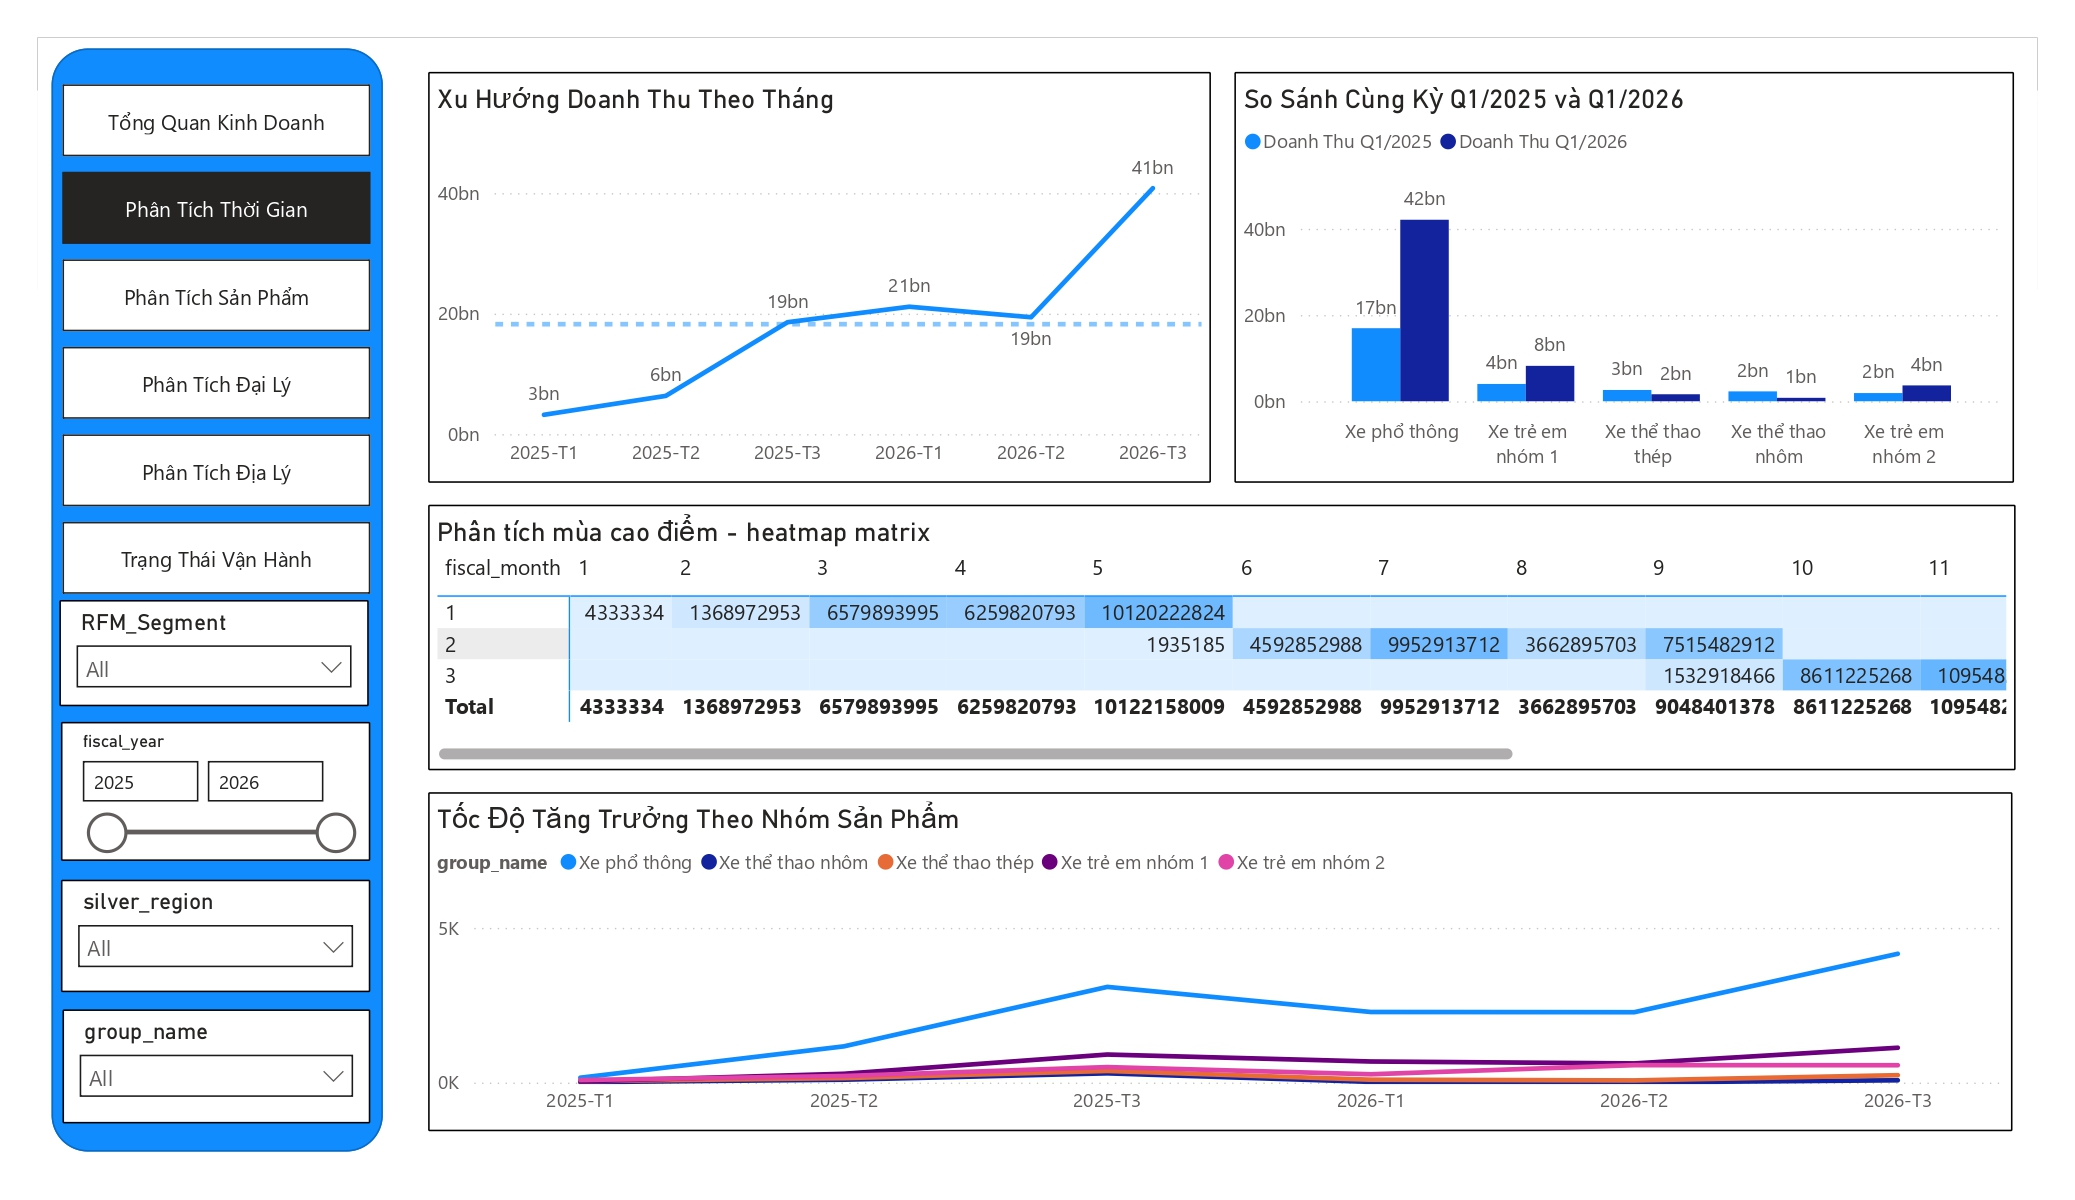

The dashboard page shown, as its layout file describes it:
{"tool":"powerbi","page":{"name":"Phân Tích Thời Gian","canvas":[1280,720],"ordinal":1},"visuals":[{"type":"lineChart","title":"Xu Hướng Doanh Thu Theo Tháng","fields":{"Y":["_measures.Total Revenue"],"Category":["gold_fact_sales.YearMonth_Label"]},"box":[249.8,21.7,501.2,263.8],"z":0},{"type":"clusteredColumnChart","title":"So Sánh Cùng Kỳ Q1/2025 và Q1/2026","fields":{"Category":["gold_fact_sales.group_name"],"Y":["_measures.Q1_2025_Revenue","_measures.Q1_2026_Revenue"]},"box":[766,21.7,498.8,263.8],"z":1000},{"type":"pivotTable","title":"Phân tích mùa cao điểm - heatmap matrix","fields":{"Rows":["gold_fact_sales.fiscal_month"],"Columns":["gold_fact_sales.week_of_year"],"Values":["_measures.Total Revenue"]},"box":[250,298.6,1015.7,170],"z":2000},{"type":"lineChart","title":"Tốc Độ Tăng Trưởng Theo Nhóm Sản Phẩm","fields":{"Category":["gold_fact_sales.YearMonth_Label"],"Series":["gold_fact_sales.group_name"],"Y":["CountNonNull(gold_fact_sales.YearMonth_Sort)"]},"box":[250,482.9,1014.3,217.1],"z":3000},{"type":"shape","box":[8.6,7.1,212.9,705.7],"z":4000},{"type":"slicer","fields":{"Values":["gold_fact_sales.silver_region"]},"box":[15.4,538.6,197.1,72.9],"z":5000},{"type":"slicer","fields":{"Values":["gold_fact_sales.group_name"]},"box":[15.8,622,197.1,72.9],"z":6000},{"type":"slicer","fields":{"Values":["gold_fact_sales.fiscal_year"]},"box":[15,438,198,89],"z":7000},{"type":"slicer","fields":{"Values":["RFM_Table.RFM_Segment"]},"box":[14,360,198,68],"z":8000},{"type":"pageNavigator","box":[15.8,30,196.7,330],"z":9000}]}

Visuals, with their boxes on the page's 1280x720 design canvas (x1, y1, x2, y2). These are canvas units, not pixel positions in the 2075x1200 screenshot, which may show the page scaled, cropped or inside an application window:
"Xu Hướng Doanh Thu Theo Tháng" lineChart: <bbox>250, 22, 751, 286</bbox>
"So Sánh Cùng Kỳ Q1/2025 và Q1/2026" clusteredColumnChart: <bbox>766, 22, 1265, 286</bbox>
"Phân tích mùa cao điểm - heatmap matrix" pivotTable: <bbox>250, 299, 1266, 469</bbox>
"Tốc Độ Tăng Trưởng Theo Nhóm Sản Phẩm" lineChart: <bbox>250, 483, 1264, 700</bbox>
shape: <bbox>9, 7, 222, 713</bbox>
slicer - gold_fact_sales.silver_region: <bbox>15, 539, 212, 612</bbox>
slicer - gold_fact_sales.group_name: <bbox>16, 622, 213, 695</bbox>
slicer - gold_fact_sales.fiscal_year: <bbox>15, 438, 213, 527</bbox>
slicer - RFM_Table.RFM_Segment: <bbox>14, 360, 212, 428</bbox>
pageNavigator: <bbox>16, 30, 212, 360</bbox>
